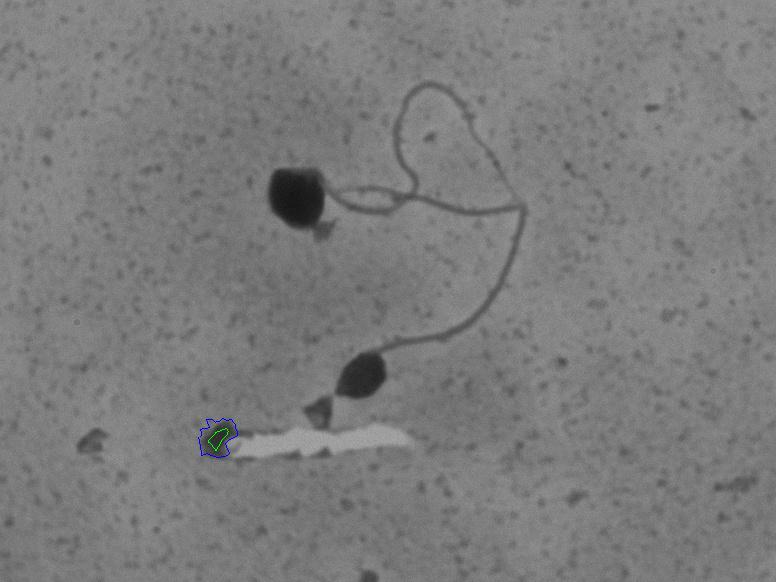Abnormal: (326, 192, 552, 415)
